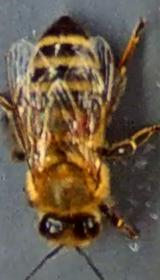varroa_mite: (66, 106, 102, 145)
